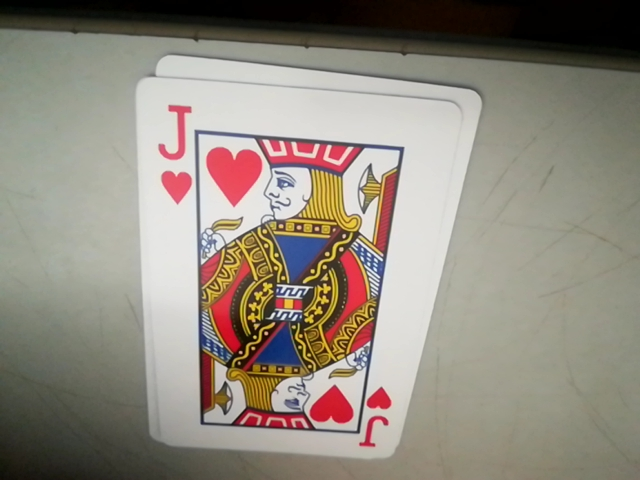hx j: (153, 104, 192, 204), (355, 385, 395, 453)
